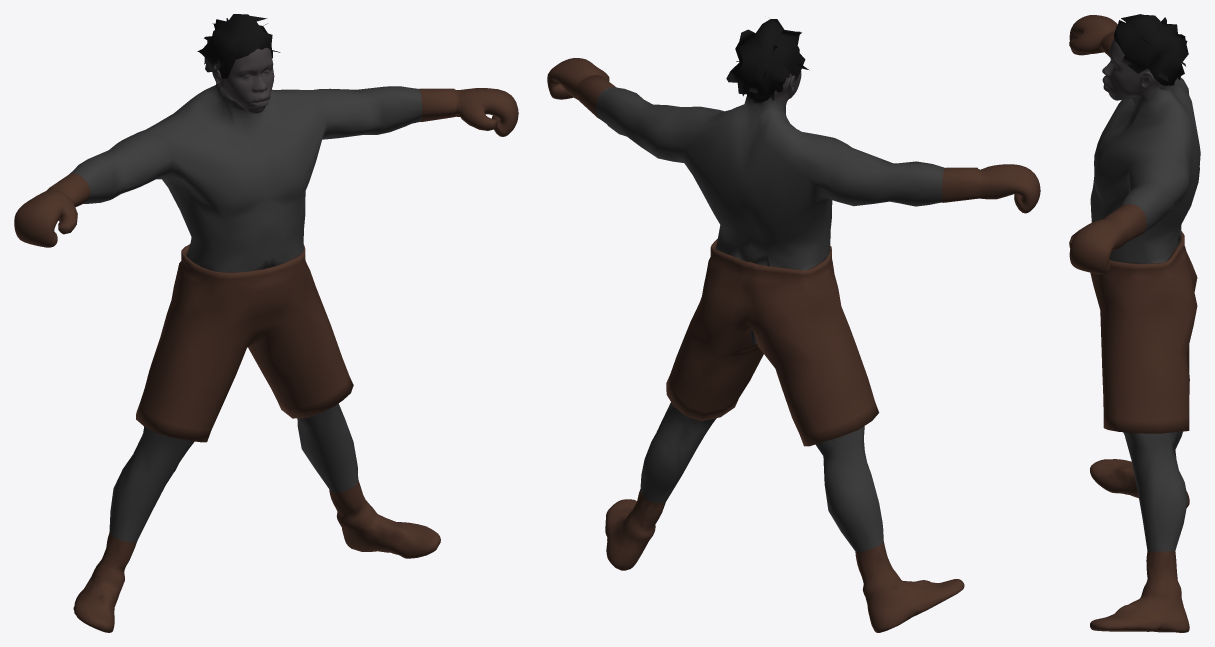
The model's file is BOXER_1.fbx.
3 renders of one model, left to right at view 1: azimuth 30°, elevation 25°; view 2: azimuth 150°, elevation 25°; view 3: azimuth 270°, elevation 25°, orthographic. The views are drawn at different scales.
Visible parts, largest first — view 1: boxeer.001; view 2: boxeer.001; view 3: boxeer.001.
Boxes of the visible parts, bbox=[...] form: boxeer.001: bbox=[14, 14, 518, 632]; boxeer.001: bbox=[547, 19, 1040, 632]; boxeer.001: bbox=[1069, 14, 1200, 632].
Bounding box in the file's own units: 459 × 509 × 109.
